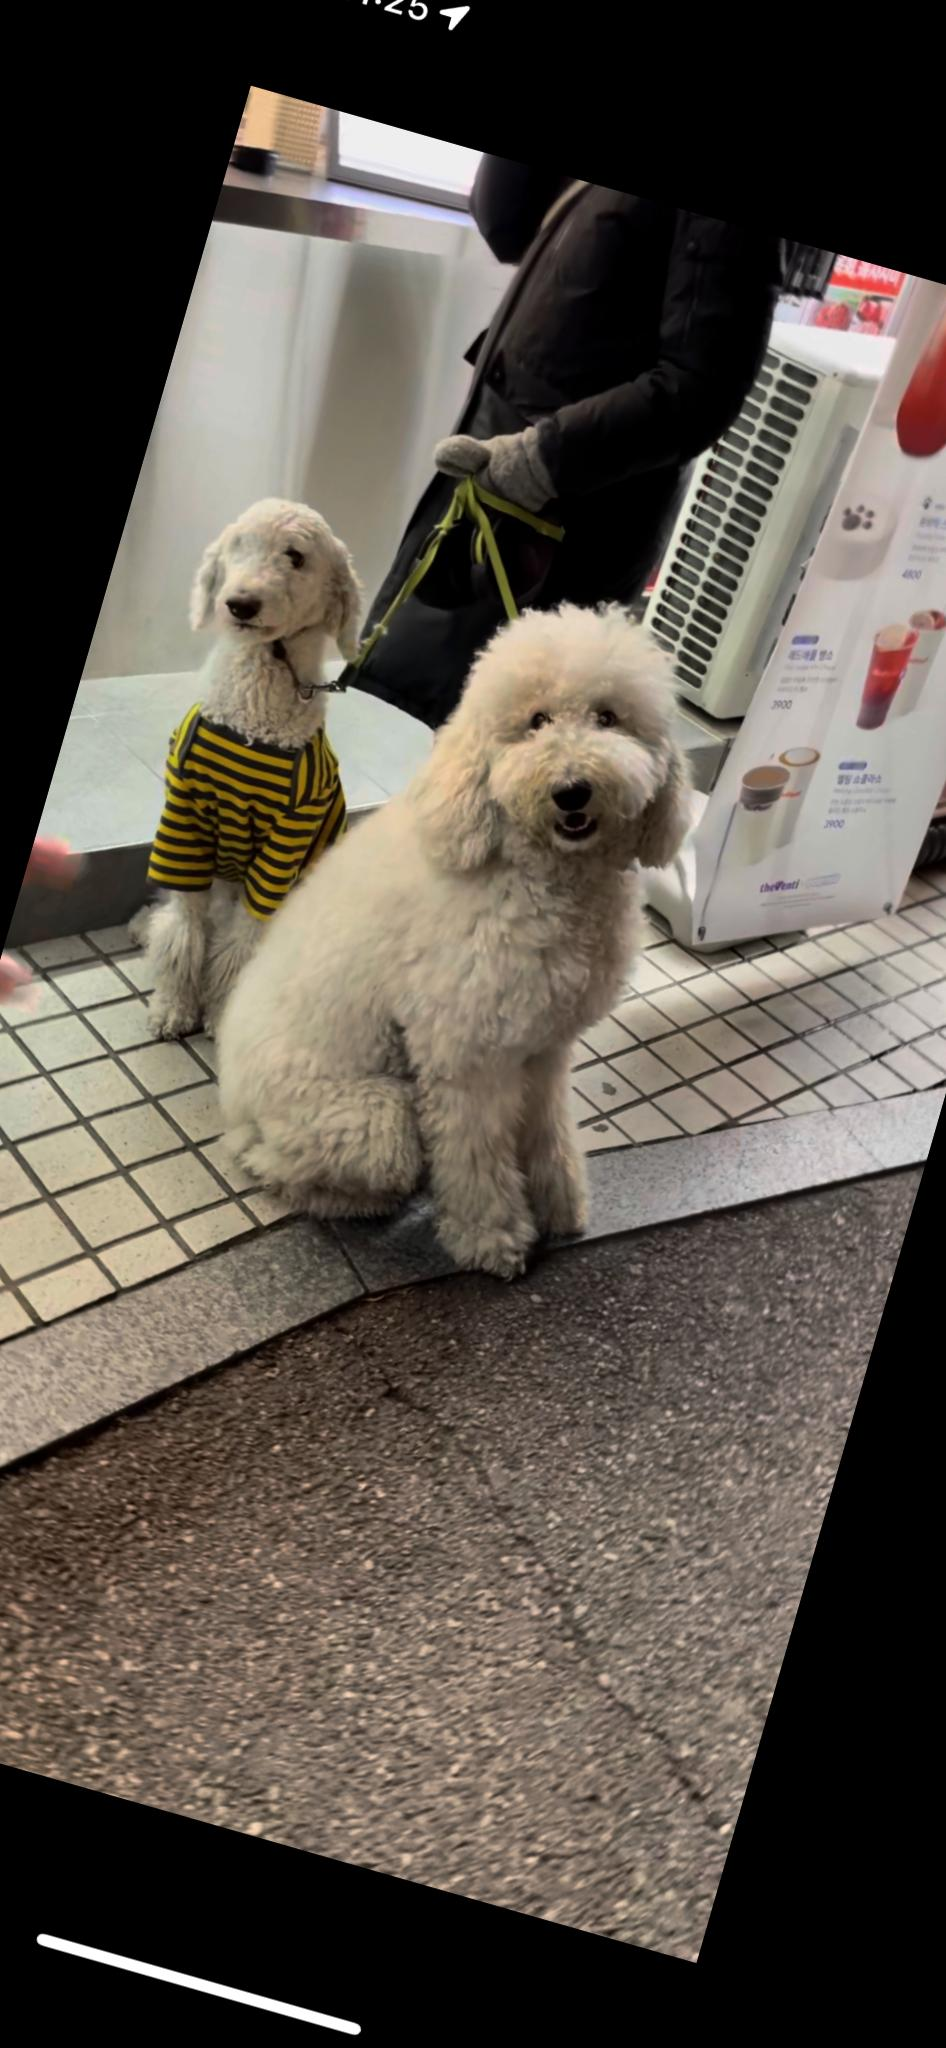dog: (171, 525, 757, 1301), (67, 478, 430, 1074)
